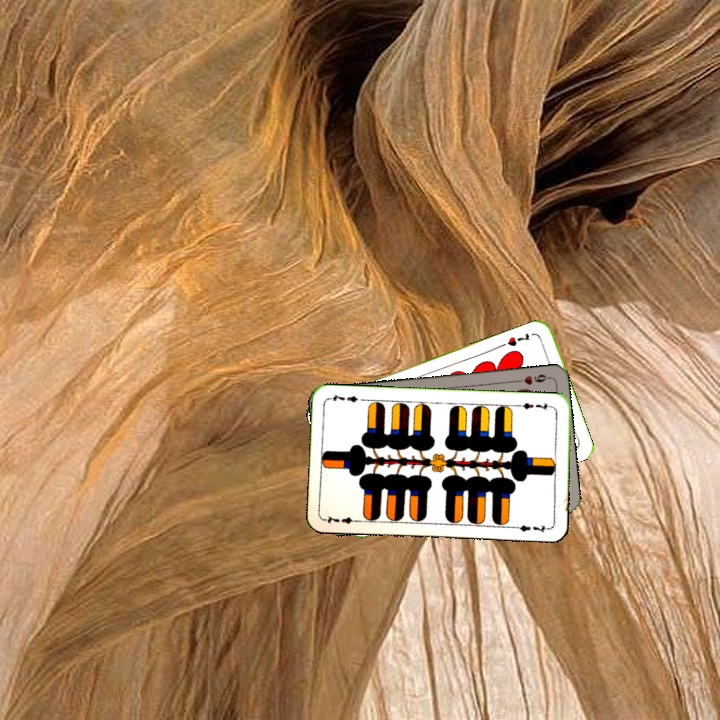E7: (515, 398, 555, 413), (322, 512, 362, 527)
H7: (503, 329, 533, 349)
H9: (511, 370, 552, 387)
